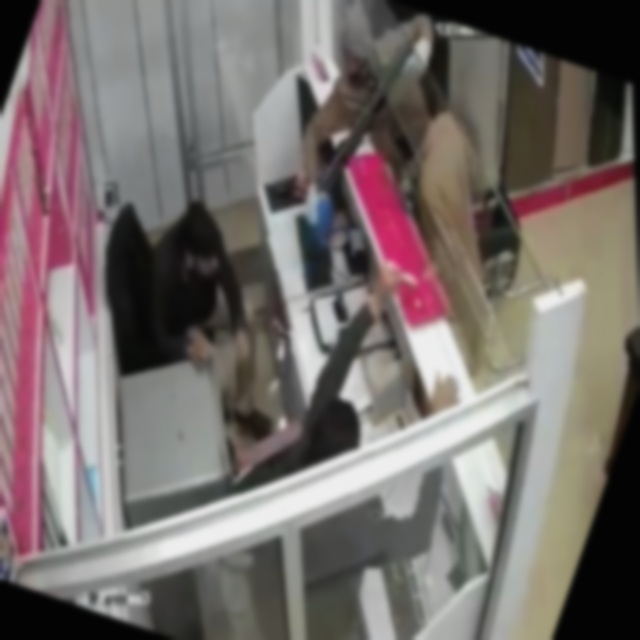gun: (256, 0, 480, 237)
